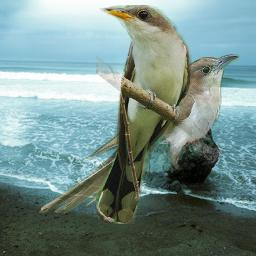Cuckoo: (39, 54, 240, 214), (96, 5, 192, 224)
